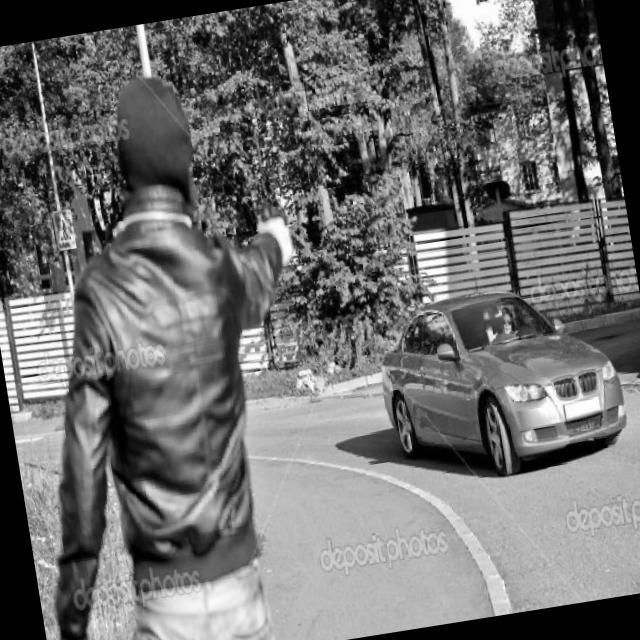weapon: (258, 194, 289, 232)
